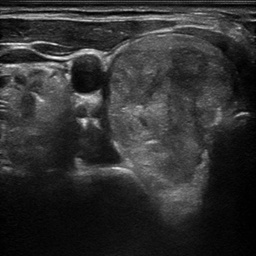mass: (106, 34, 232, 201)
